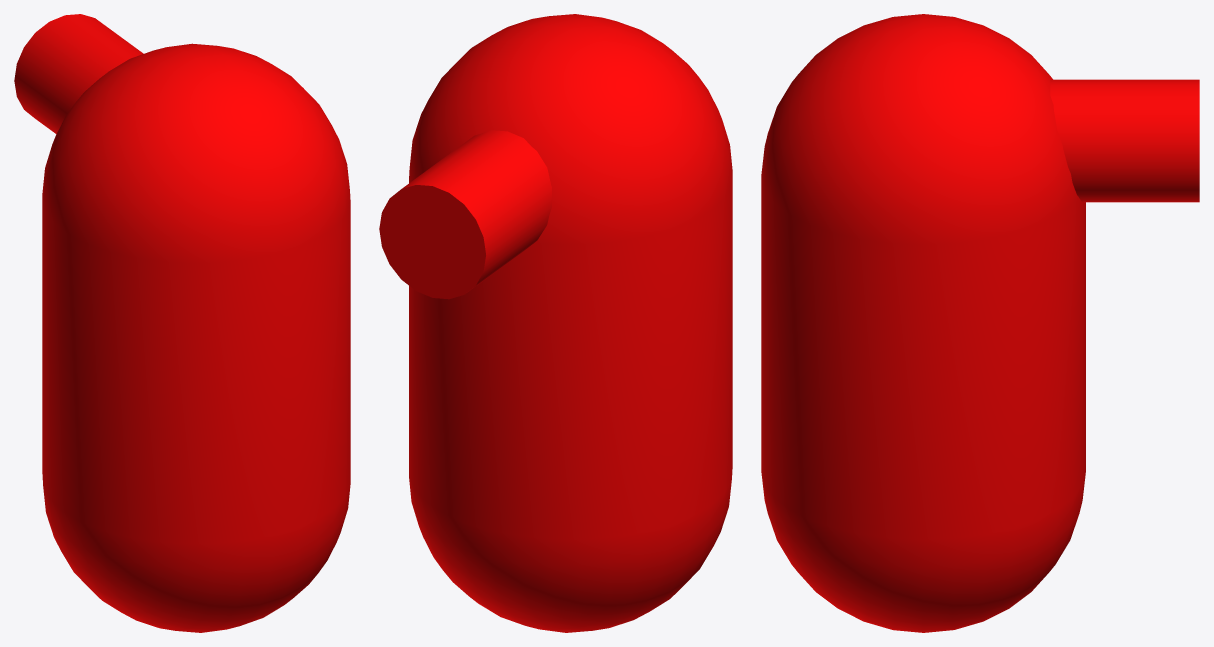
Rendered from Enemy.fbx.
The picture shows the model from 3 angles, left to right: view 1: azimuth 30°, elevation 25°; view 2: azimuth 150°, elevation 25°; view 3: azimuth 270°, elevation 25°; orthographic projection. The views are drawn at different scales.
Parts seen in each view (by area): view 1: Enemy, Nose; view 2: Enemy, Nose; view 3: Enemy, Nose.
Boxes of the visible parts, box(x1,y1,x2,y2) form: Enemy: box(42, 43, 350, 632); Nose: box(14, 14, 143, 133); Enemy: box(409, 14, 732, 632); Nose: box(379, 130, 551, 299); Enemy: box(761, 14, 1085, 632); Nose: box(1050, 79, 1199, 202).
Bounding box in the file's own units: 100 × 200 × 135.
